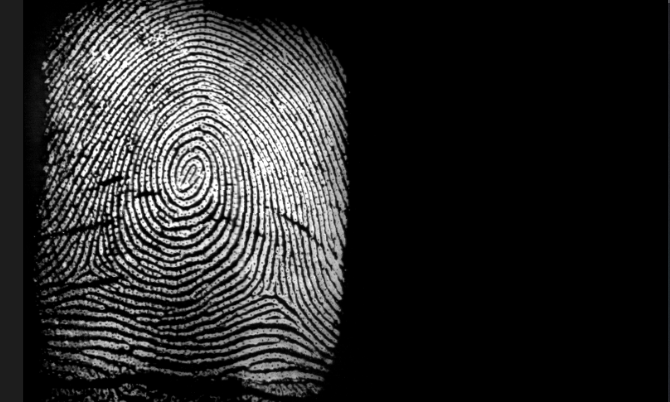deltas: (65, 239, 115, 288), (240, 268, 293, 314)
nucleo: (164, 141, 212, 194)
